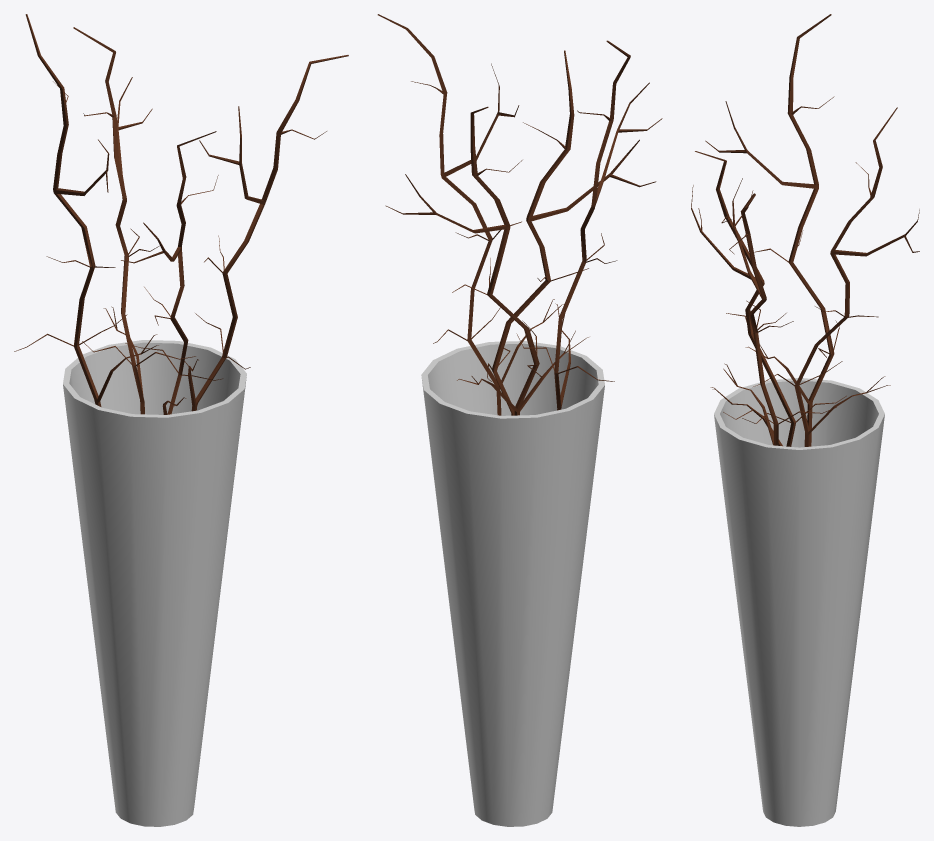
Rendered from vase_2.FBX.
The picture shows the model from 3 angles, left to right: view 1: azimuth 30°, elevation 25°; view 2: azimuth 150°, elevation 25°; view 3: azimuth 270°, elevation 25°; orthographic projection. The views are drawn at different scales.
Parts seen in each view (by area): view 1: vase_2; view 2: vase_2; view 3: vase_2.
Boxes of the visible parts, bbox=[...] form: vase_2: bbox=[14, 14, 348, 826]; vase_2: bbox=[377, 14, 662, 826]; vase_2: bbox=[691, 14, 919, 826].
Size of the model in its own units: 0.2053 by 0.5563 by 0.1544.
